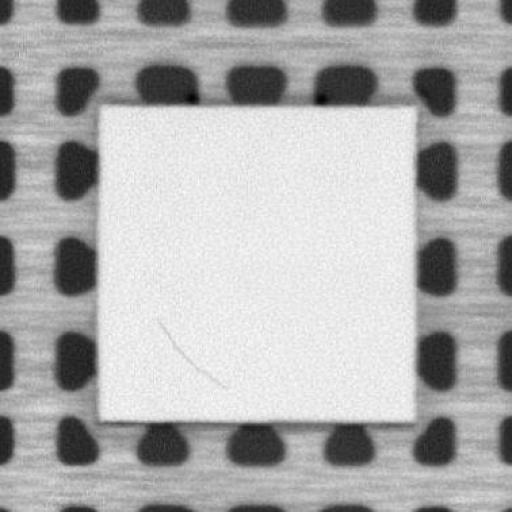DIE_CRACK: (152, 319, 228, 390)
